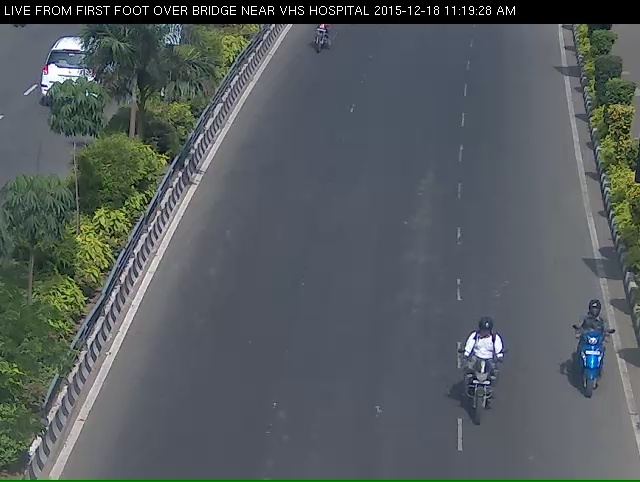Person: (454, 338, 510, 461), (574, 320, 622, 429), (302, 24, 334, 65)
